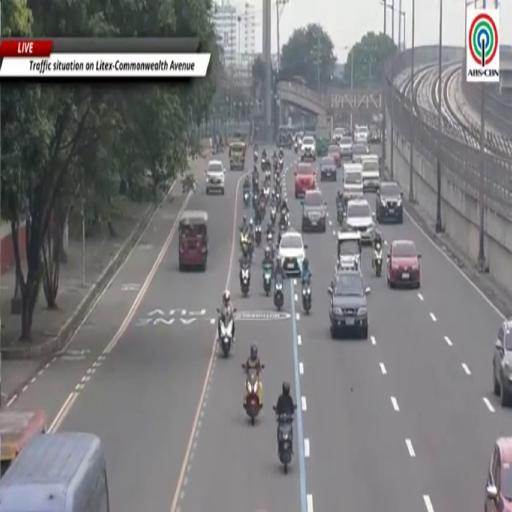bus: (0, 432, 109, 511)
car: (328, 269, 369, 339), (485, 437, 511, 511), (387, 239, 421, 289), (493, 319, 511, 406), (343, 199, 374, 244), (278, 231, 307, 276), (376, 182, 403, 223), (301, 189, 326, 232), (343, 163, 363, 204), (295, 163, 316, 198), (205, 160, 225, 195), (361, 155, 380, 191), (320, 157, 336, 181), (301, 136, 316, 161), (352, 142, 369, 163), (339, 136, 353, 158), (328, 146, 341, 167), (354, 125, 369, 142), (369, 126, 381, 143), (333, 127, 344, 145), (354, 133, 368, 143)
jeepney: (0, 409, 47, 475), (179, 211, 208, 271), (337, 231, 362, 269), (230, 141, 245, 170)
motorcycle: (242, 364, 262, 425), (277, 414, 294, 473), (217, 309, 233, 357), (240, 264, 250, 297), (274, 280, 284, 311), (302, 281, 311, 314), (373, 245, 382, 277), (264, 265, 272, 296), (266, 232, 275, 258), (239, 230, 249, 253), (336, 197, 344, 223), (258, 198, 266, 219), (279, 215, 288, 232), (255, 224, 261, 247), (243, 189, 250, 207), (271, 207, 276, 226), (253, 191, 258, 210), (264, 186, 270, 201), (275, 173, 281, 187), (276, 190, 281, 205), (265, 170, 271, 182), (264, 179, 271, 188), (254, 151, 258, 164), (279, 158, 283, 170), (294, 142, 298, 153)
